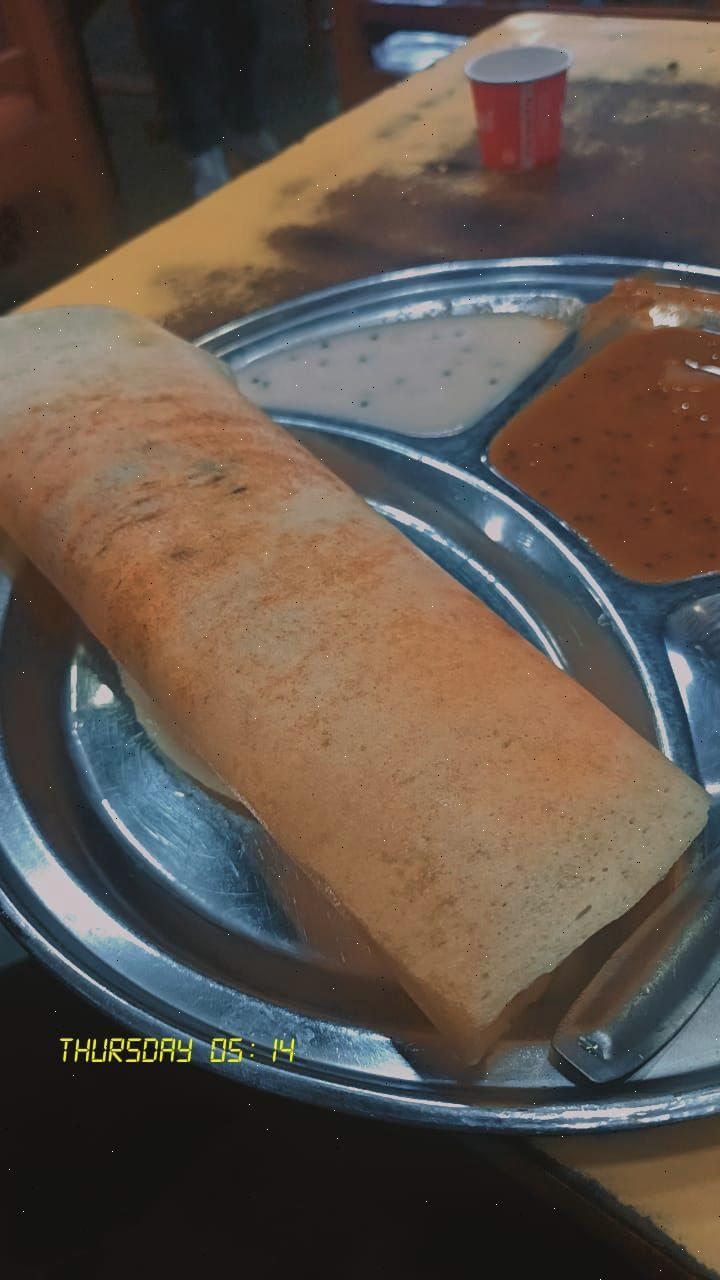dosa: (0, 324, 670, 1044)
